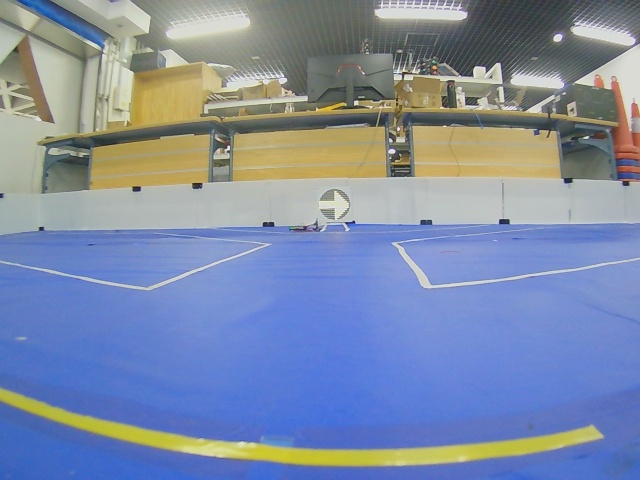right_yellow: (319, 189, 350, 220)
